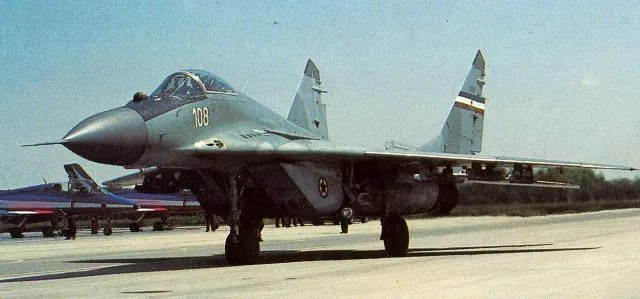Mig-29: (23, 41, 589, 269)
